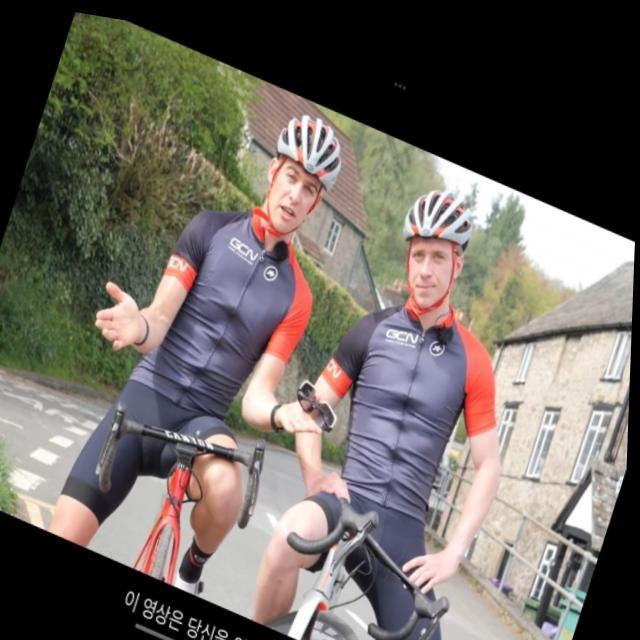Helmet: (247, 109, 347, 242), (398, 177, 480, 325)
